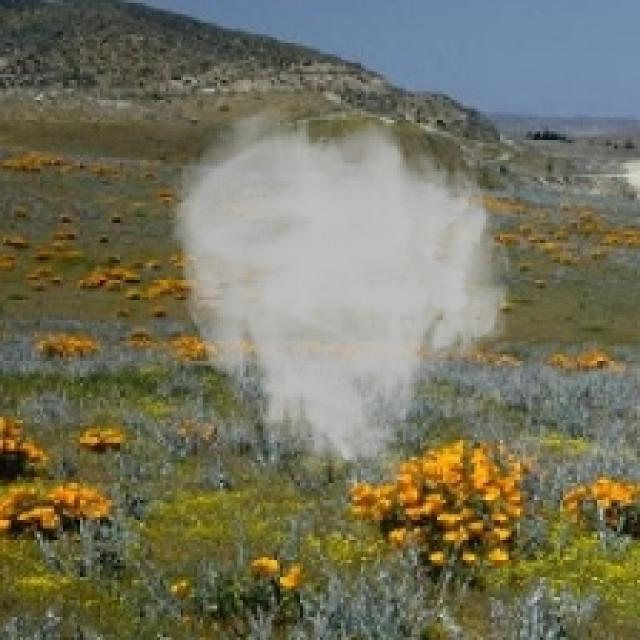smoke: (166, 103, 514, 488)
